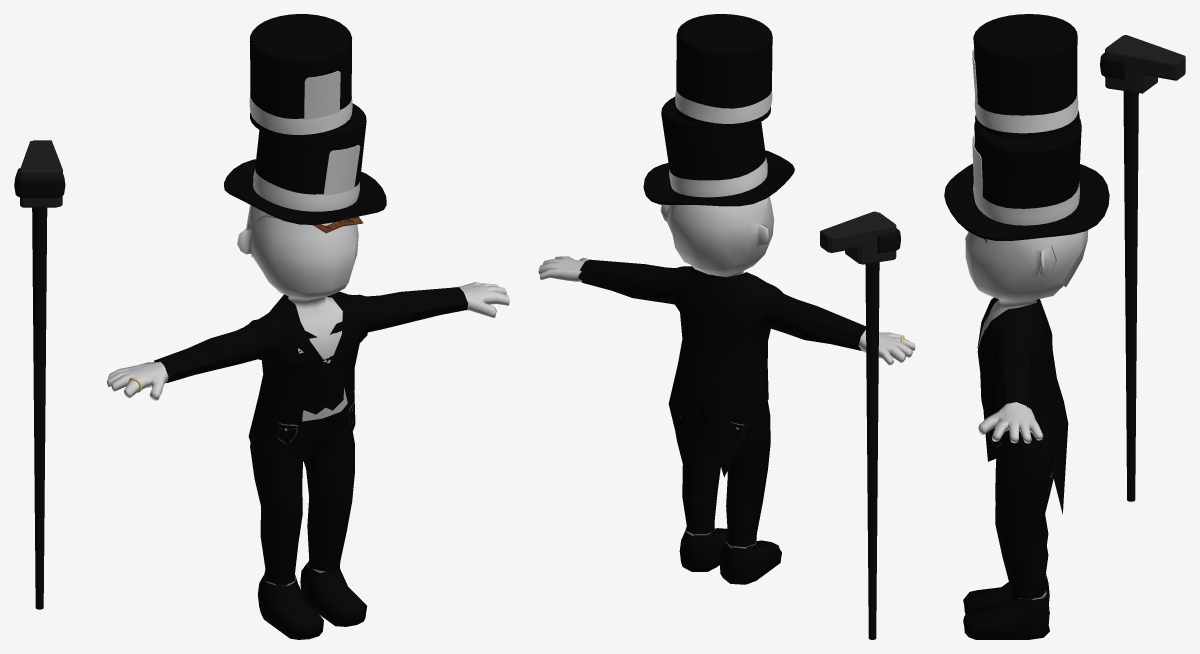
File: NIGHTMARERIGGED.obj
The picture shows the model from 3 angles, left to right: view 1: azimuth 30°, elevation 25°; view 2: azimuth 150°, elevation 25°; view 3: azimuth 270°, elevation 25°; orthographic projection. The views are drawn at different scales.
Parts seen in each view (by area): view 1: polySurface16 polySurface12 polySurface9 polySurface8 polySurfac, initialShadingGroup polySurface16 polySurface12 polySurface9 pol, pCube1 group3, initialShadingGroup Jacket1, tophat1, Jacket, group1 TopHatofawesome:pCylinder1, polySurface17 polySurface16 polySurface12 polySurface9 polySurfa, inner_suit, group3 polySurface3, Card, TopHatofawesome:polySurface5 group1 (+2 smaller); view 2: initialShadingGroup Jacket1, polySurface16 polySurface12 polySurface9 polySurface8 polySurfac, pCube1 group3, tophat1, initialShadingGroup polySurface16 polySurface12 polySurface9 pol, Jacket, group1 TopHatofawesome:pCylinder1, polySurface17 polySurface16 polySurface12 polySurface9 polySurfa, group1 polySurface11, group1 TopHatofawesome:polySurface4; view 3: tophat1, pCube1 group3, Jacket, initialShadingGroup polySurface16 polySurface12 polySurface9 pol, polySurface16 polySurface12 polySurface9 polySurface8 polySurfac, group1 TopHatofawesome:pCylinder1, polySurface17 polySurface16 polySurface12 polySurface9 polySurfa, group1 TopHatofawesome:polySurface4, TopHatofawesome:polySurface5 group1, Card.
Part boxes in pixels (x1,y1,x2,y2): polySurface16 polySurface12 polySurface9 polySurface8 polySurfac: (250,404,354,639); initialShadingGroup polySurface16 polySurface12 polySurface9 pol: (107,205,509,421); pCube1 group3: (249,14,352,139); initialShadingGroup Jacket1: (154,294,323,459); tophat1: (224,103,386,224); Jacket: (303,287,468,467); group1 TopHatofawesome:pCylinder1: (32,207,47,609); polySurface17 polySurface16 polySurface12 polySurface9 polySurfa: (300,562,367,626); inner_suit: (299,322,343,414); group3 polySurface3: (304,71,340,119); Card: (323,145,360,195); TopHatofawesome:polySurface5 group1: (14,168,65,197); initialShadingGroup Jacket1: (701,272,865,477); polySurface16 polySurface12 polySurface9 polySurface8 polySurfac: (675,377,781,584); pCube1 group3: (675,14,772,128); tophat1: (643,96,794,206); initialShadingGroup polySurface16 polySurface12 polySurface9 pol: (538,196,915,365); Jacket: (578,259,714,467); group1 TopHatofawesome:pCylinder1: (865,262,879,639); polySurface17 polySurface16 polySurface12 polySurface9 polySurfa: (679,526,727,571); group1 polySurface11: (830,212,896,264); group1 TopHatofawesome:polySurface4: (820,211,891,263); tophat1: (944,118,1109,240); pCube1 group3: (973,14,1079,138); Jacket: (977,299,1068,514); initialShadingGroup polySurface16 polySurface12 polySurface9 pol: (965,230,1088,443); polySurface16 polySurface12 polySurface9 polySurface8 polySurfac: (963,431,1054,614); group1 TopHatofawesome:pCylinder1: (1123,91,1138,501); polySurface17 polySurface16 polySurface12 polySurface9 polySurfa: (963,591,1049,639); group1 TopHatofawesome:polySurface4: (1105,36,1185,93); TopHatofawesome:polySurface5 group1: (1100,52,1125,79); Card: (972,136,982,197).
Size of the model in its own units: 9.84 by 12.51 by 4.63.
